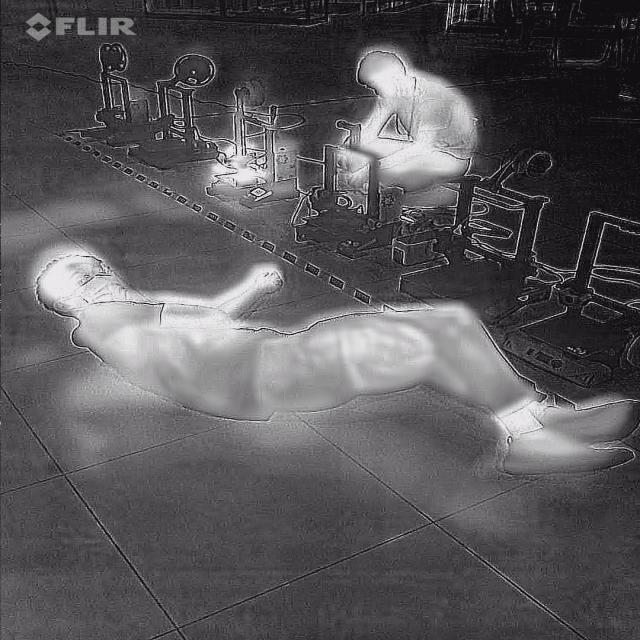Victim: (30, 246, 636, 480), (324, 40, 481, 209)
